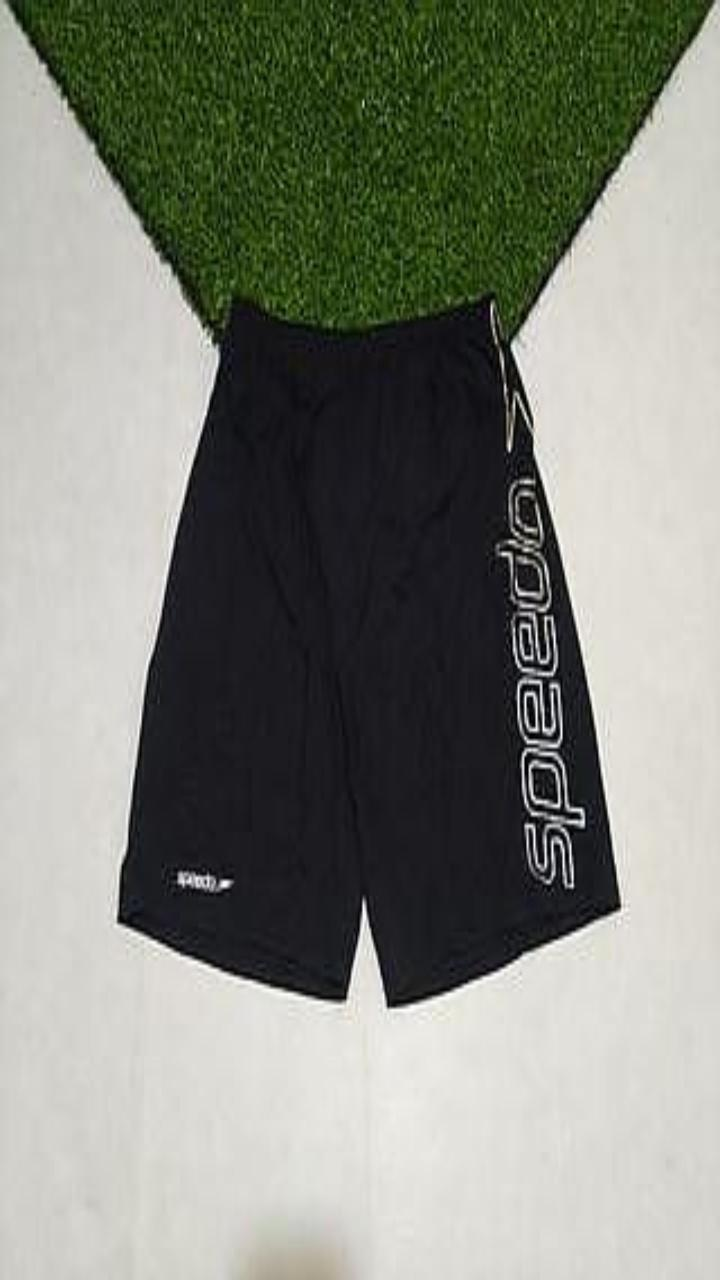Shorts: (118, 293, 619, 1005)
